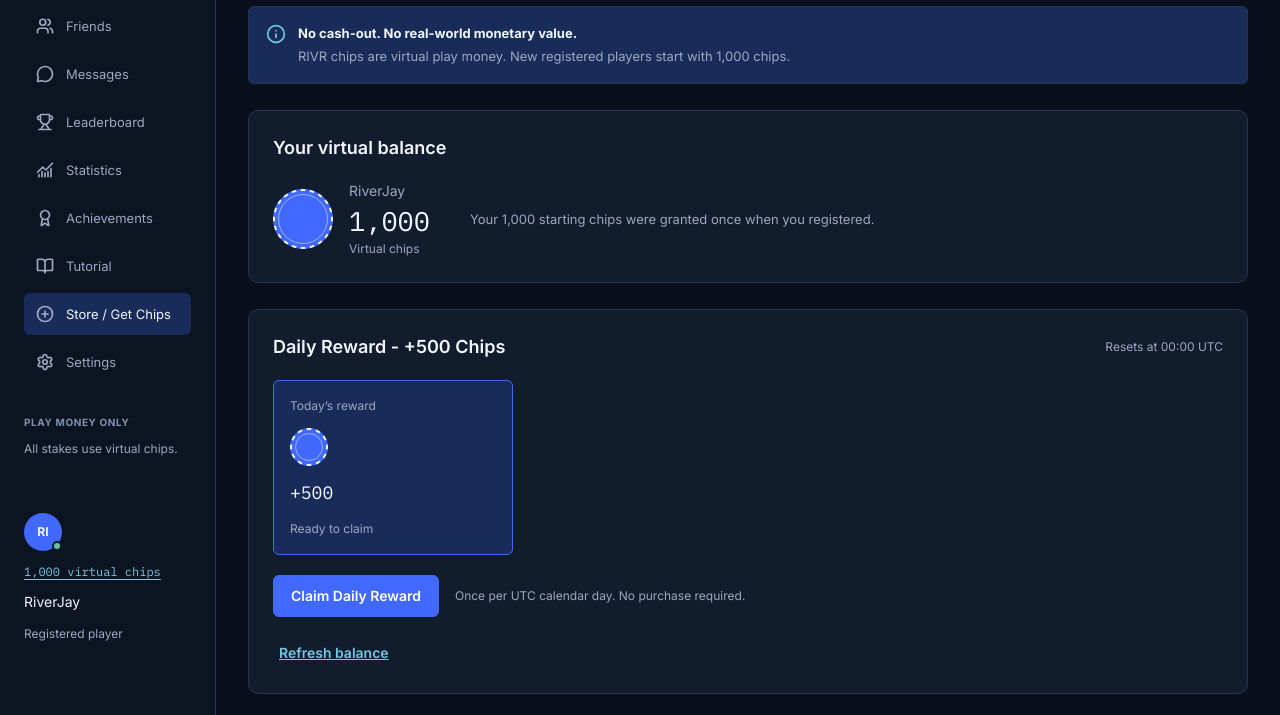
Test: daily claim sends empty JSON and CSRF, updates displayed balance and disables repeats
(page scrolled)
What coordinates should you click on to do the following:
click the button "Claim Daily Reward"
I would click on:
 (356, 596)
Its box is top-left (273, 575), bottom-right (439, 617).
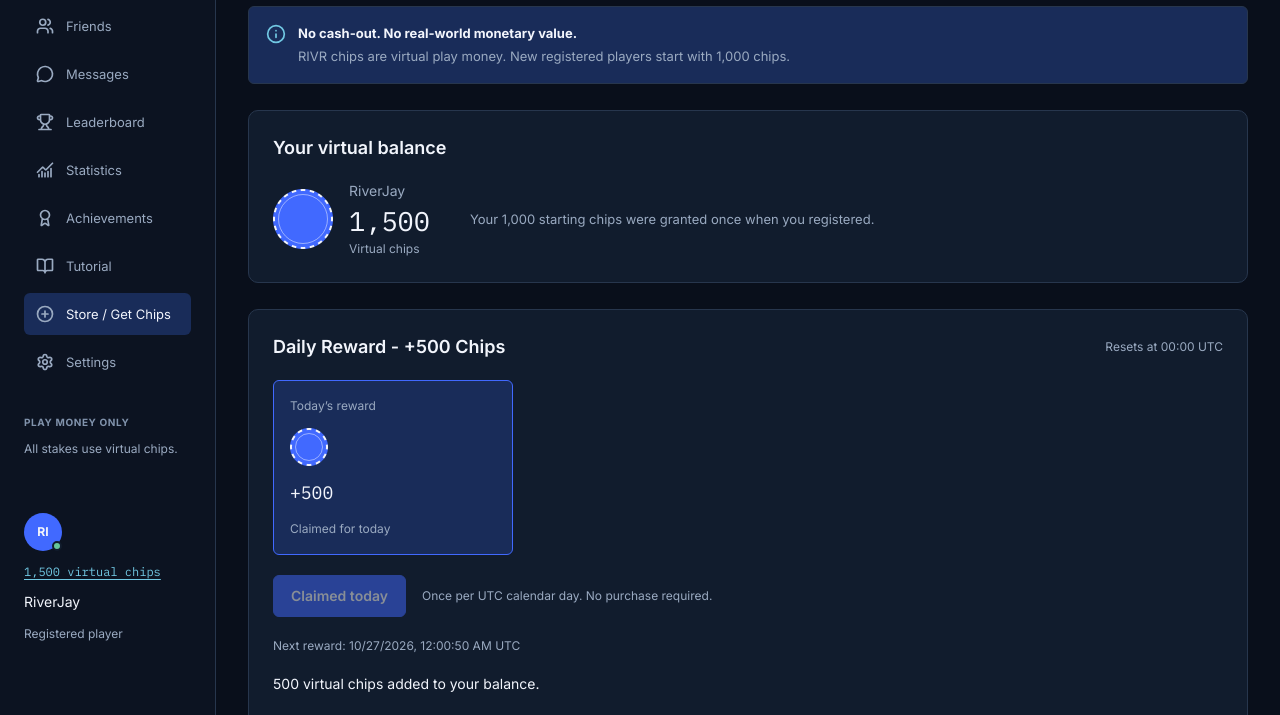
Expected: the text "500 virtual chips added to your balance." is shown, top-left (273, 675), bottom-right (540, 692)
Expected: the button "Claimed today" is disabled, top-left (273, 575), bottom-right (406, 617)
Expected: the text "1,500" is shown, top-left (349, 201), bottom-right (430, 240)
